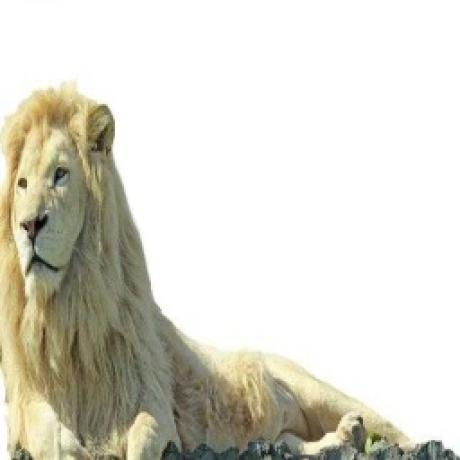Lion: (0, 79, 426, 460)
